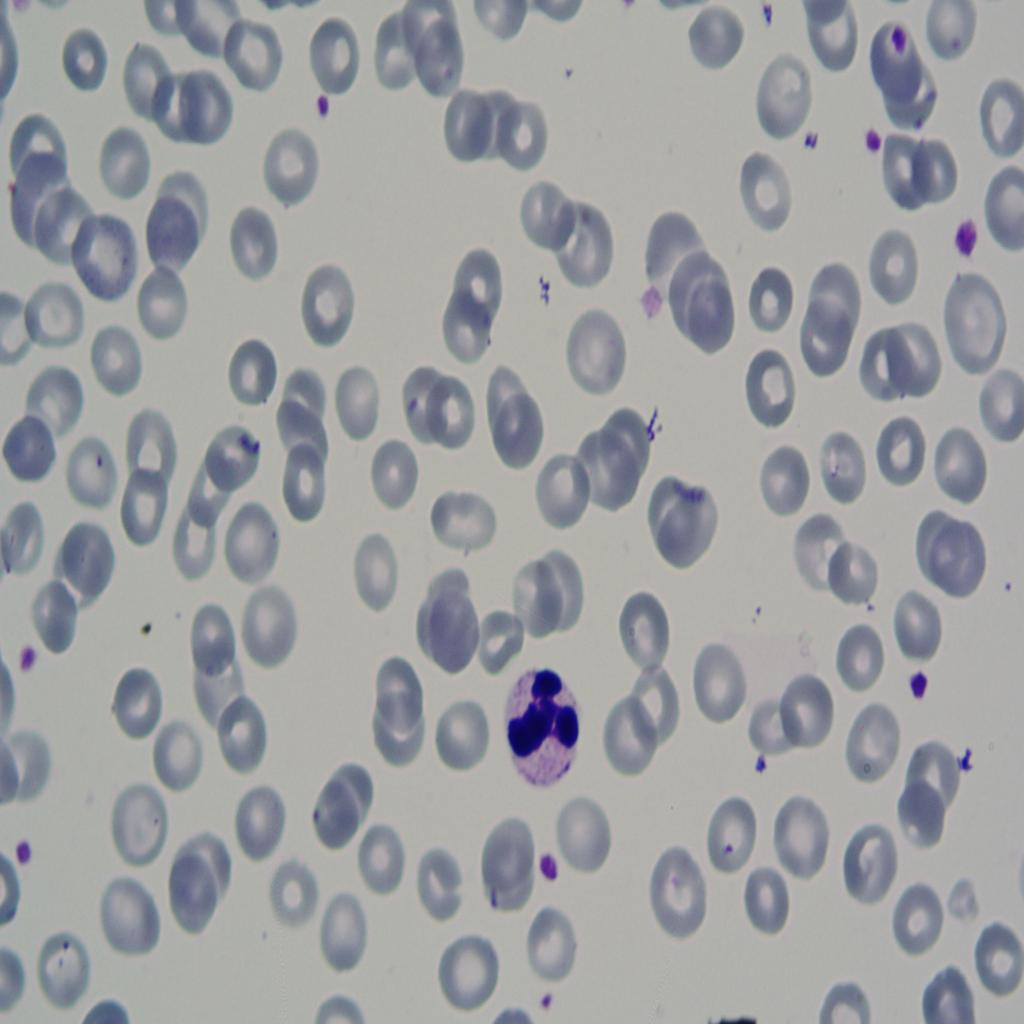Eritrosit: (949, 206, 988, 272), (527, 845, 569, 889), (880, 10, 910, 62), (298, 79, 334, 121), (860, 122, 888, 170), (11, 825, 36, 878), (533, 978, 560, 1020), (910, 656, 929, 708), (750, 736, 772, 780), (18, 632, 38, 680), (801, 130, 825, 162)
Neutrofil: (501, 652, 584, 793)
